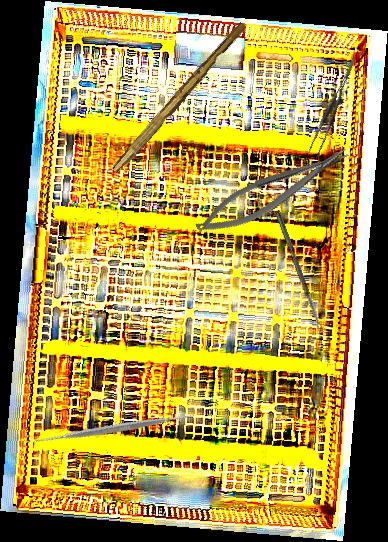Needle Holder: (189, 140, 357, 244)
Scalpel Handle: (111, 18, 248, 178)
Spatula Surgical: (28, 341, 201, 515)
Surgical Spoon: (273, 209, 325, 335)
Tissue Forceps: (298, 58, 371, 159)
